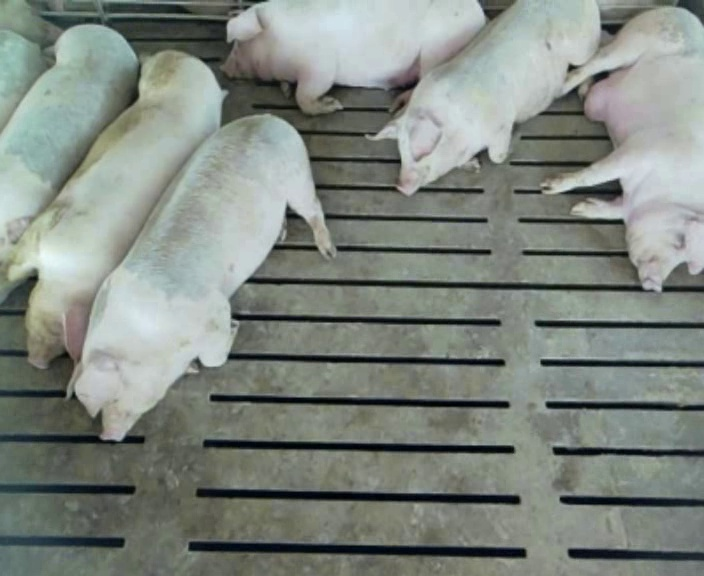pig: (69, 115, 334, 439), (0, 50, 223, 367), (542, 7, 703, 291), (0, 25, 137, 260)
